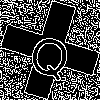Q: (25, 25, 76, 83)
